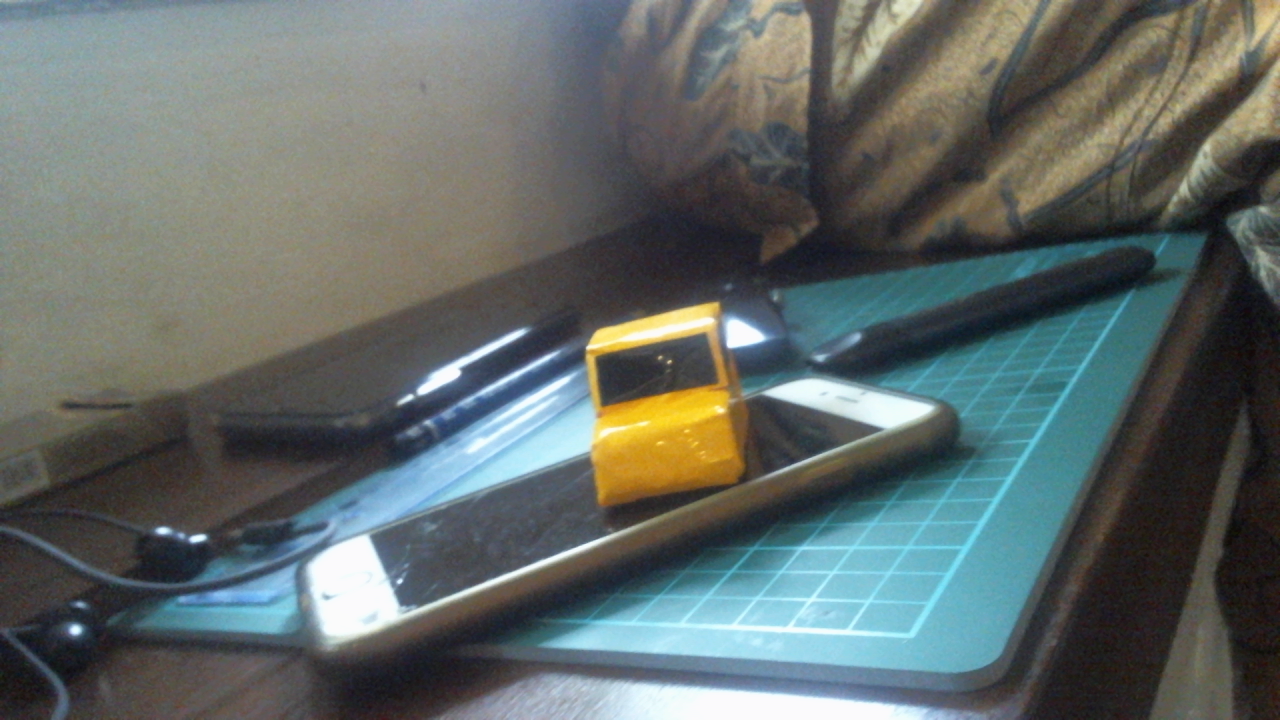Kijang Kapsul: (541, 283, 798, 523)
